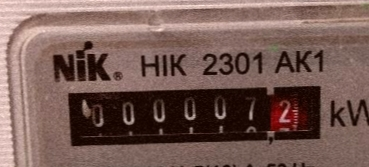0: (119, 97, 137, 126), (149, 95, 168, 122), (88, 100, 106, 127), (211, 92, 228, 120), (181, 93, 197, 120)
2: (276, 95, 293, 124)
7: (241, 92, 258, 121)
screen: (59, 76, 333, 150)
